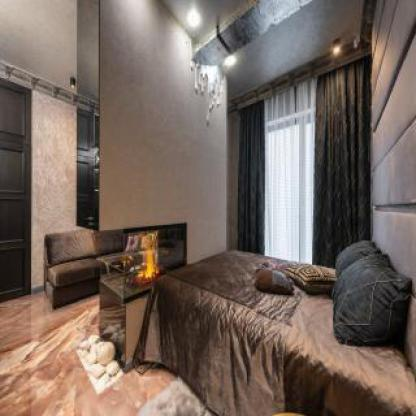fire: (135, 243, 161, 283)
